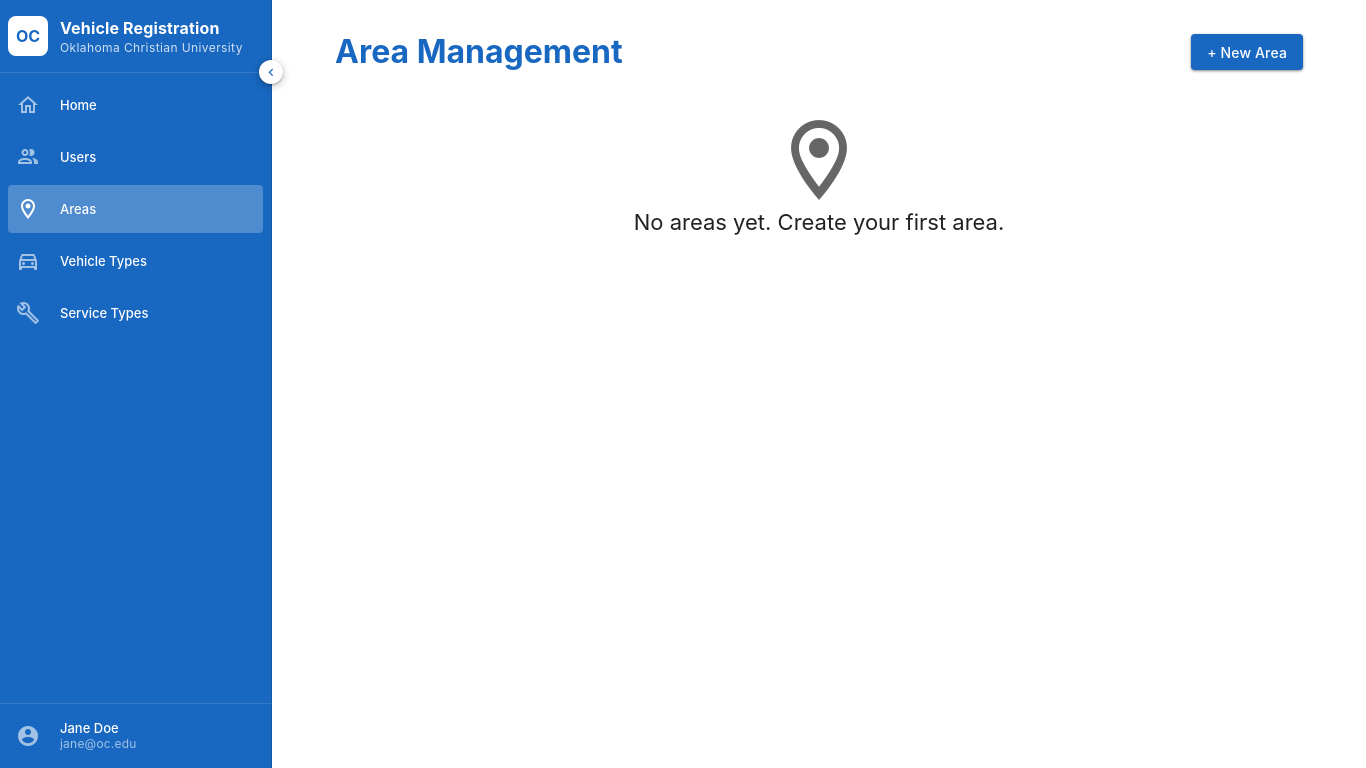
Test: Feature 2 — Area Management › US-2.1 — Create areas › User creates area with missing name
Step 1. Click the button "+ New Area" → x=1247, y=52, box 1191,34 -> 1303,70
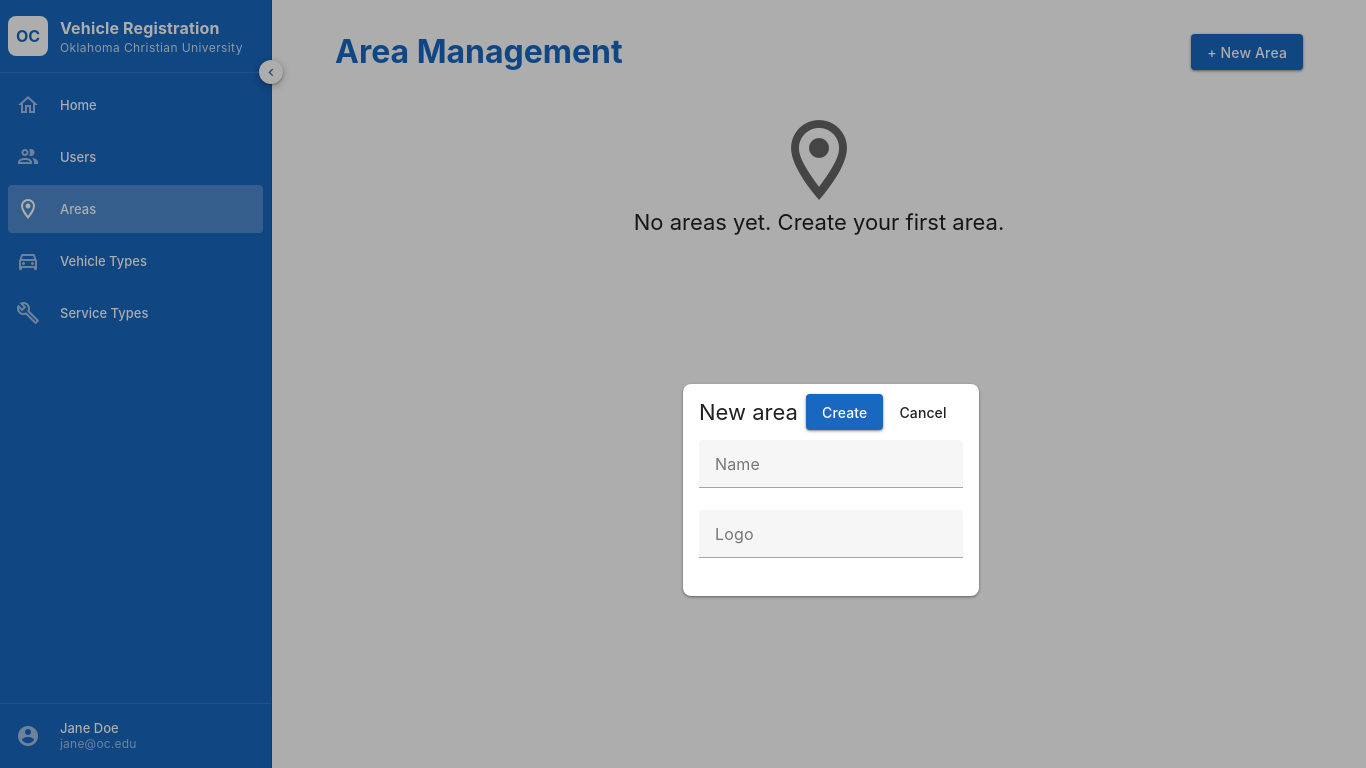
Expected: the text "New Area" is shown, 1207,44 -> 1287,60
Expected: the button "Create" is shown
Step 2. Click the button "Create" → x=845, y=412, box 806,394 -> 883,430
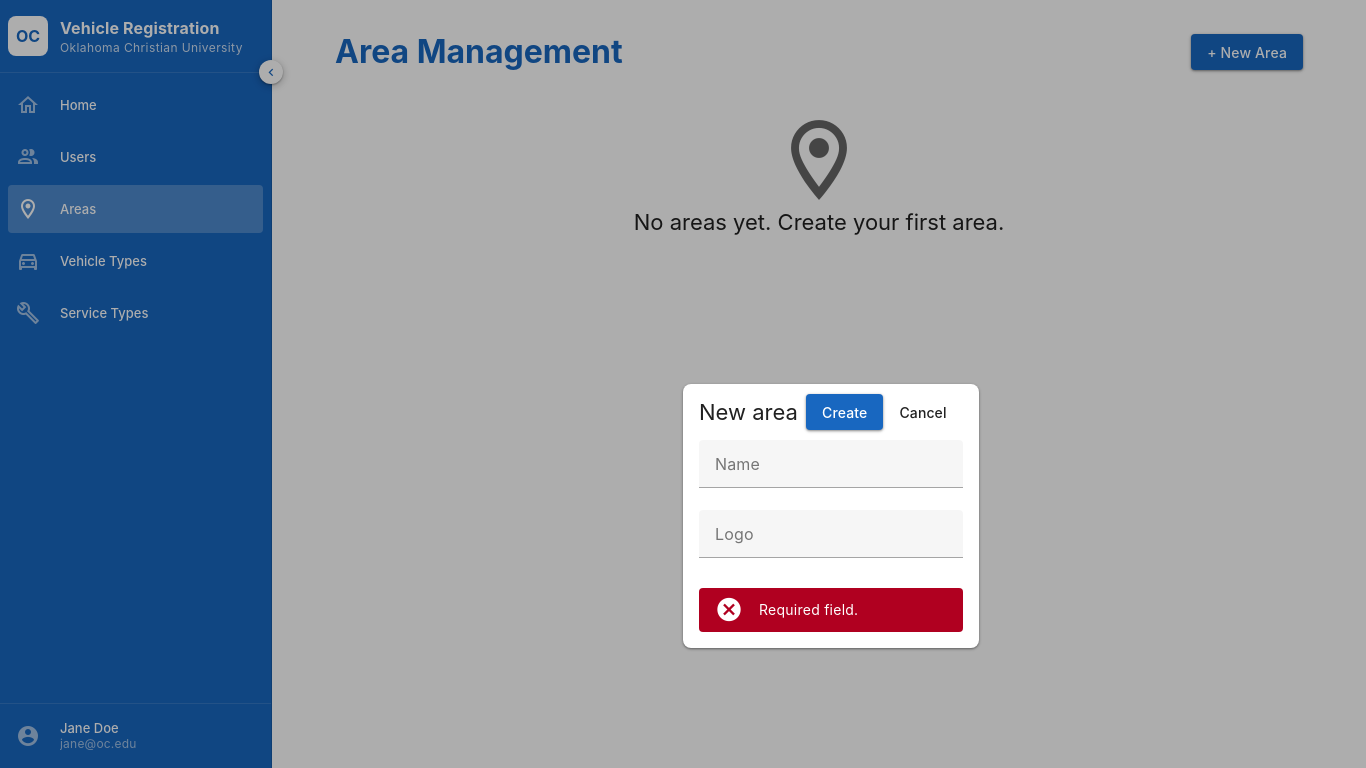
Expected: the text "Required field." is shown, 759,601 -> 858,618
